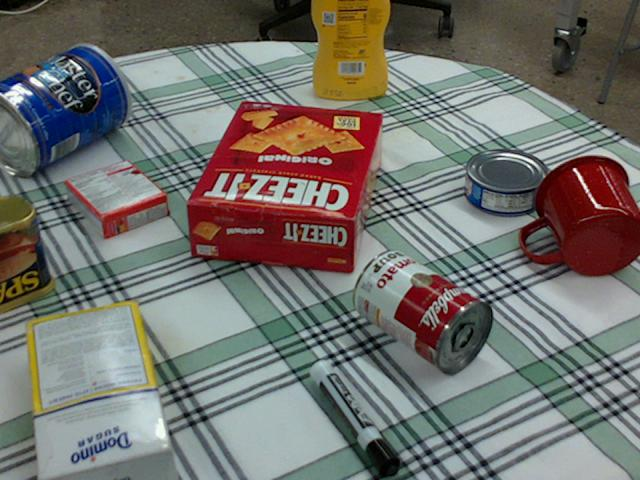cracker_box: (182, 100, 384, 273)
gelatin_box: (65, 158, 169, 239)
large_marker: (311, 360, 399, 479)
master_chef_can: (0, 43, 131, 177)
mug: (521, 154, 639, 276)
mustard_bottle: (312, 0, 389, 99)
potted_meat_can: (0, 193, 55, 311)
sugar_box: (21, 301, 174, 479)
tomato_soup_can: (352, 248, 493, 374)
tuna_fish_can: (465, 149, 549, 216)
